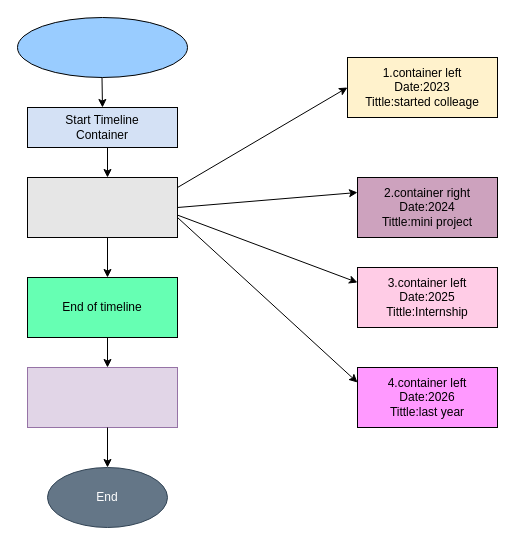
The diagram is 515 pixels wide and 545 high, and some of its shapes have lost their labels. The box of each missing label's shape, as (x1, y1, x2, y2) in pixels:
Remind time line: (26, 176, 178, 238)
Response css triggers on mobile view: (26, 366, 178, 428)
Start: (16, 16, 188, 78)
